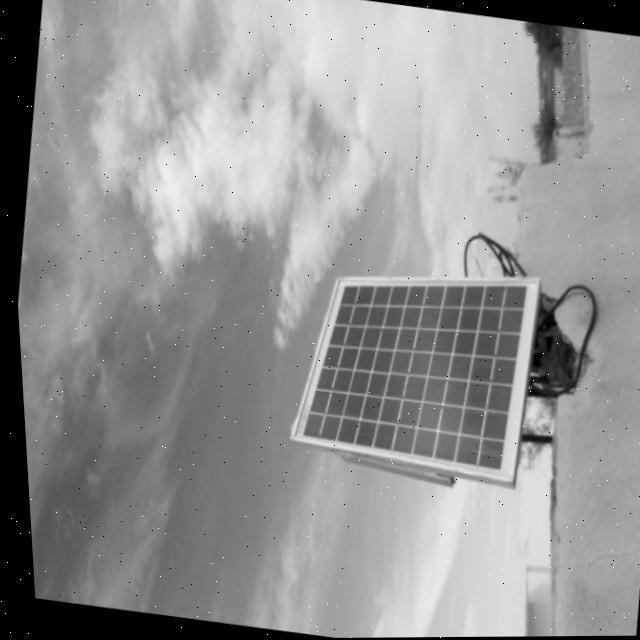Normal Solar Panel: (276, 248, 542, 485)
